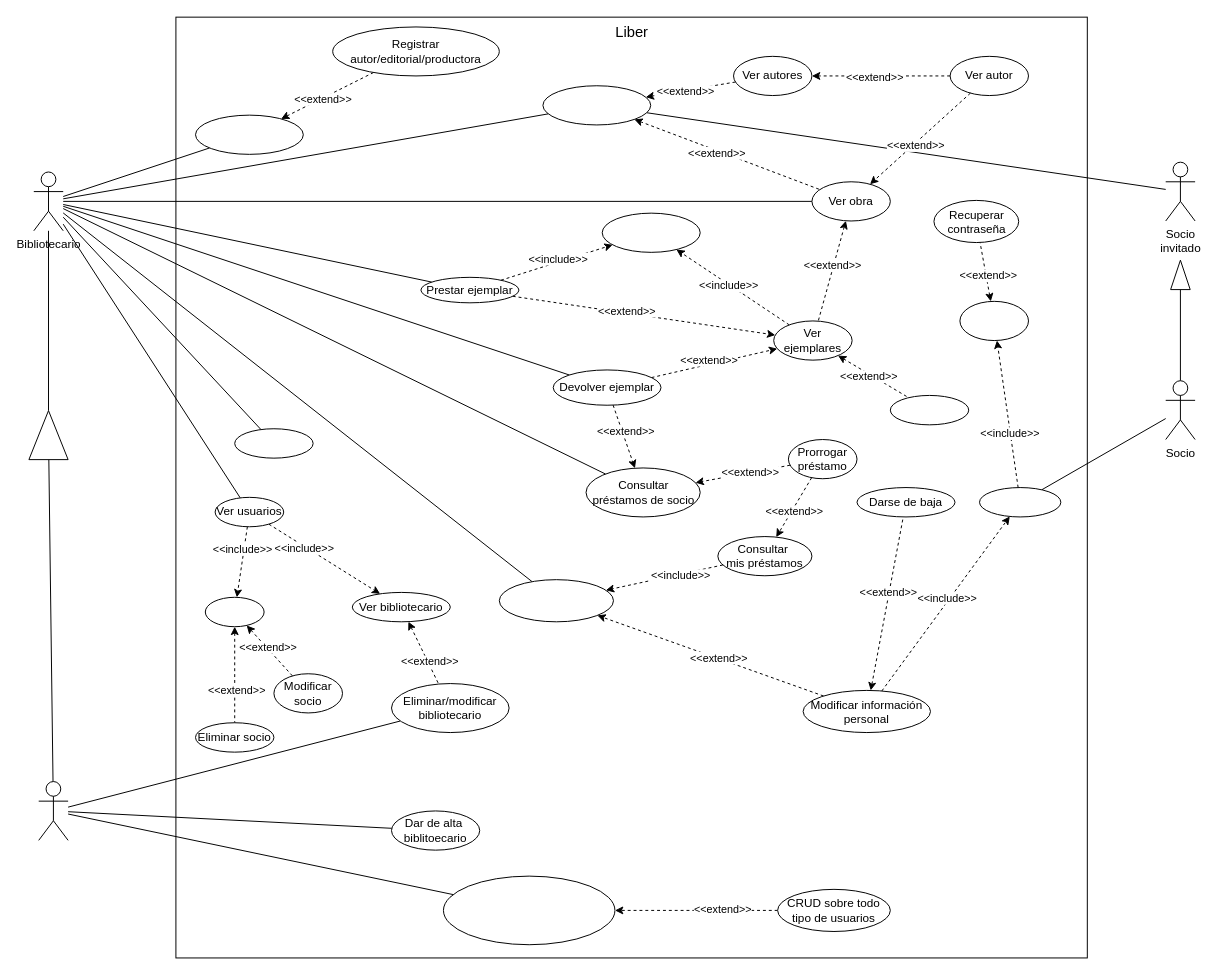
This 1217x975 diagram has some shape labels left out. Here are the shapes that lost their labels. From the top down, the centre of each, then its label:
At point (596, 105): "Consultar catálogo".
At point (249, 134): "Registrar ejemplar".
At point (650, 232): "Consultar disponibilidad".
At point (994, 320): "Registrarse".
At point (929, 409): "Agregar ejemplar".
At point (273, 443): "Nuevo socio".
At point (1020, 502): "Iniciar sesión".
At point (234, 611): "Ver socio".
At point (555, 600): "Ver mi información personal".
At point (53, 810): "Administrador".
At point (528, 910): "CRUD sobre BBDD a través del panel de admin".
